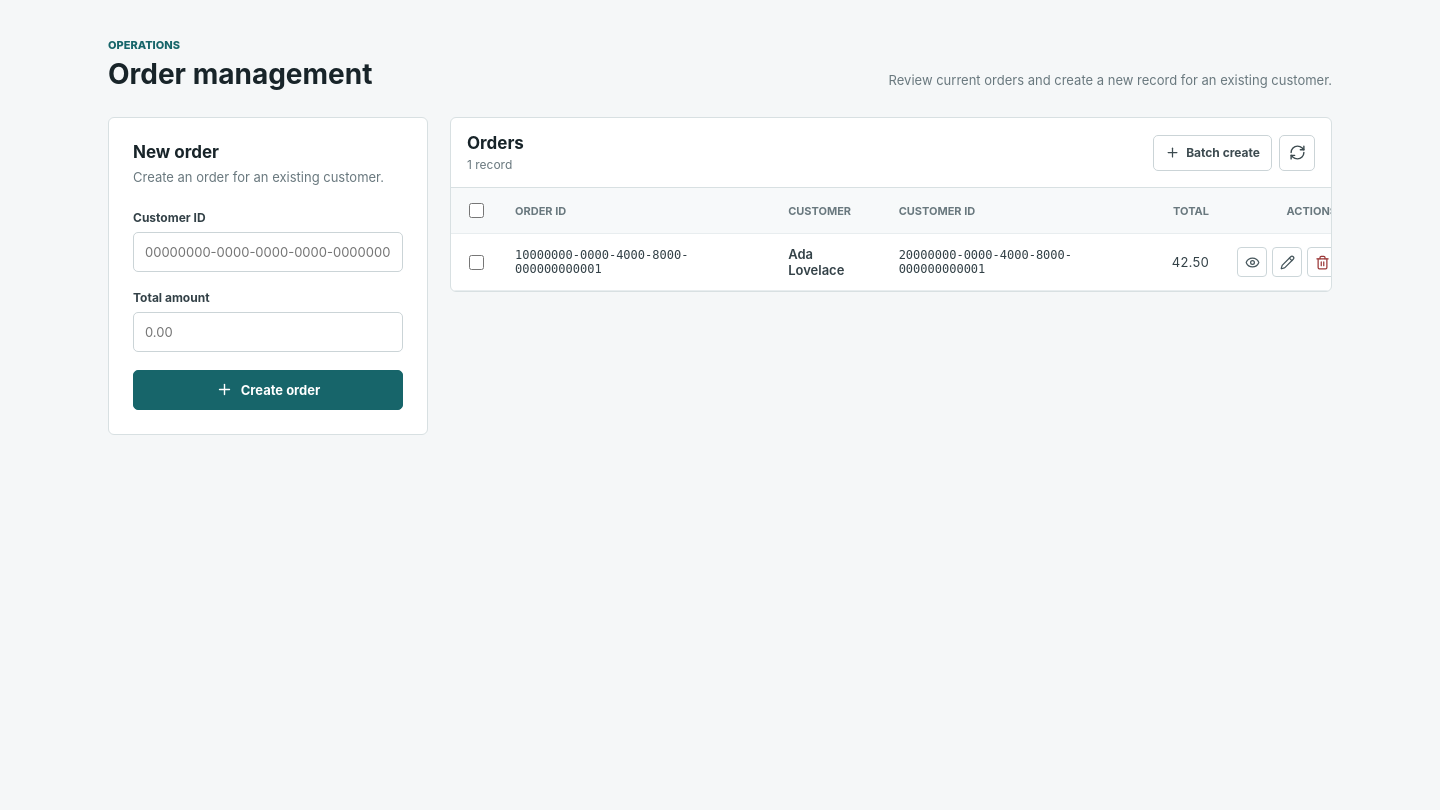
Test: orders page › creates and deletes orders in batches
Click the button "Batch create" at (1213, 152), box [1153, 134, 1272, 170]
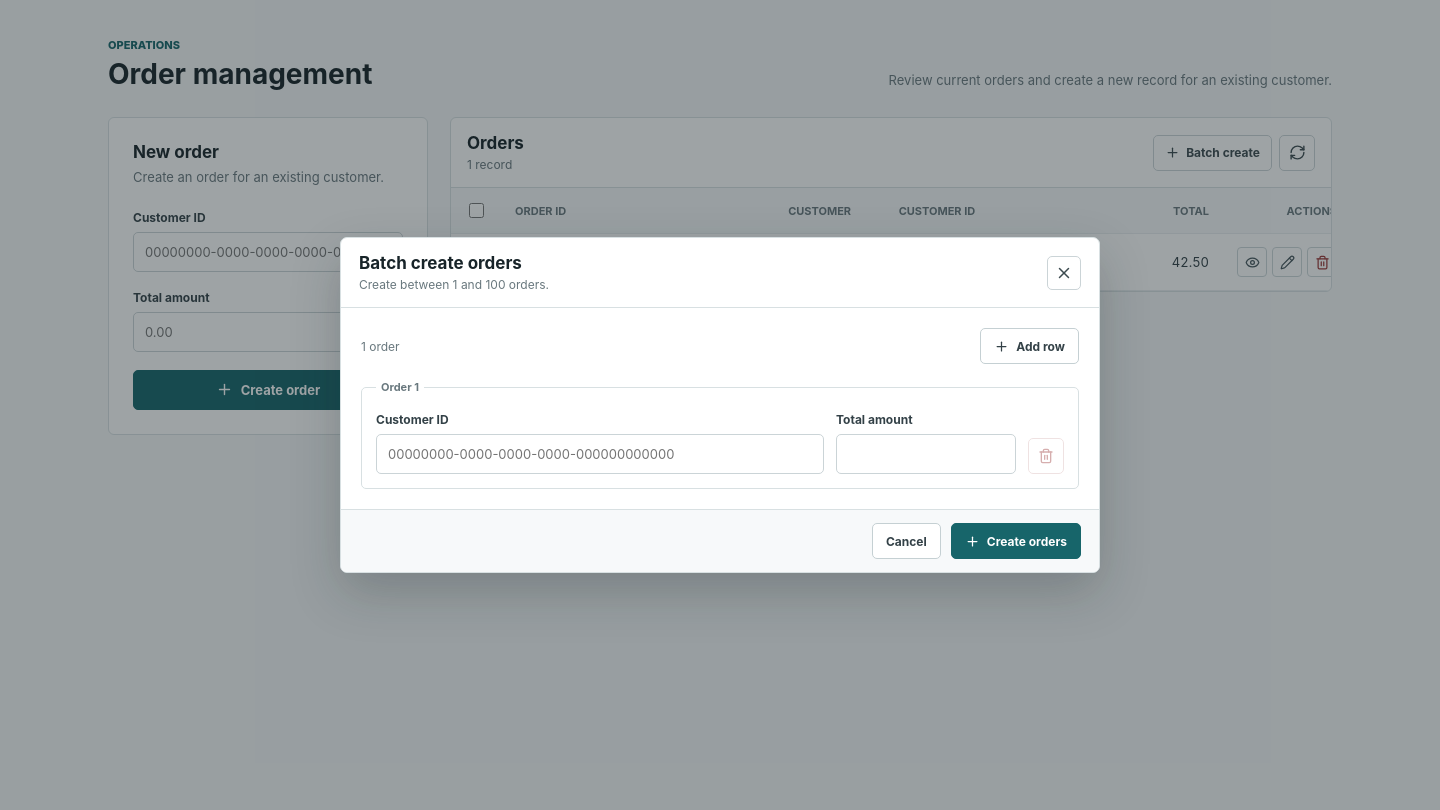
Type "20000000-0000-4000-8000-000000000001" into the field named "orders[0" at (600, 454), box [376, 434, 824, 474]
Type "75" into the number field named "orders[0" at (926, 454), box [836, 434, 1016, 474]
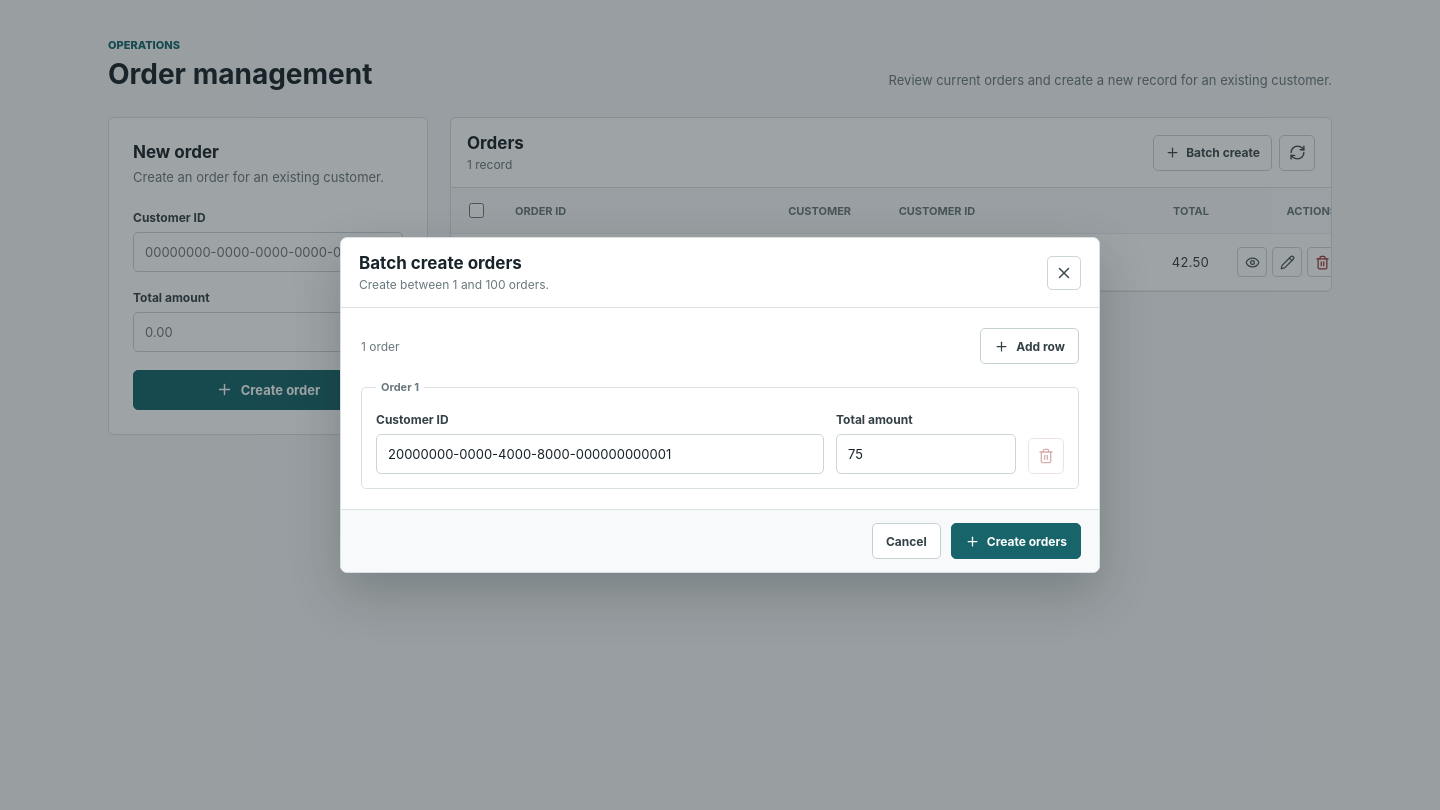
Submit the form with id "batch-create-form", box [361, 328, 1079, 489]
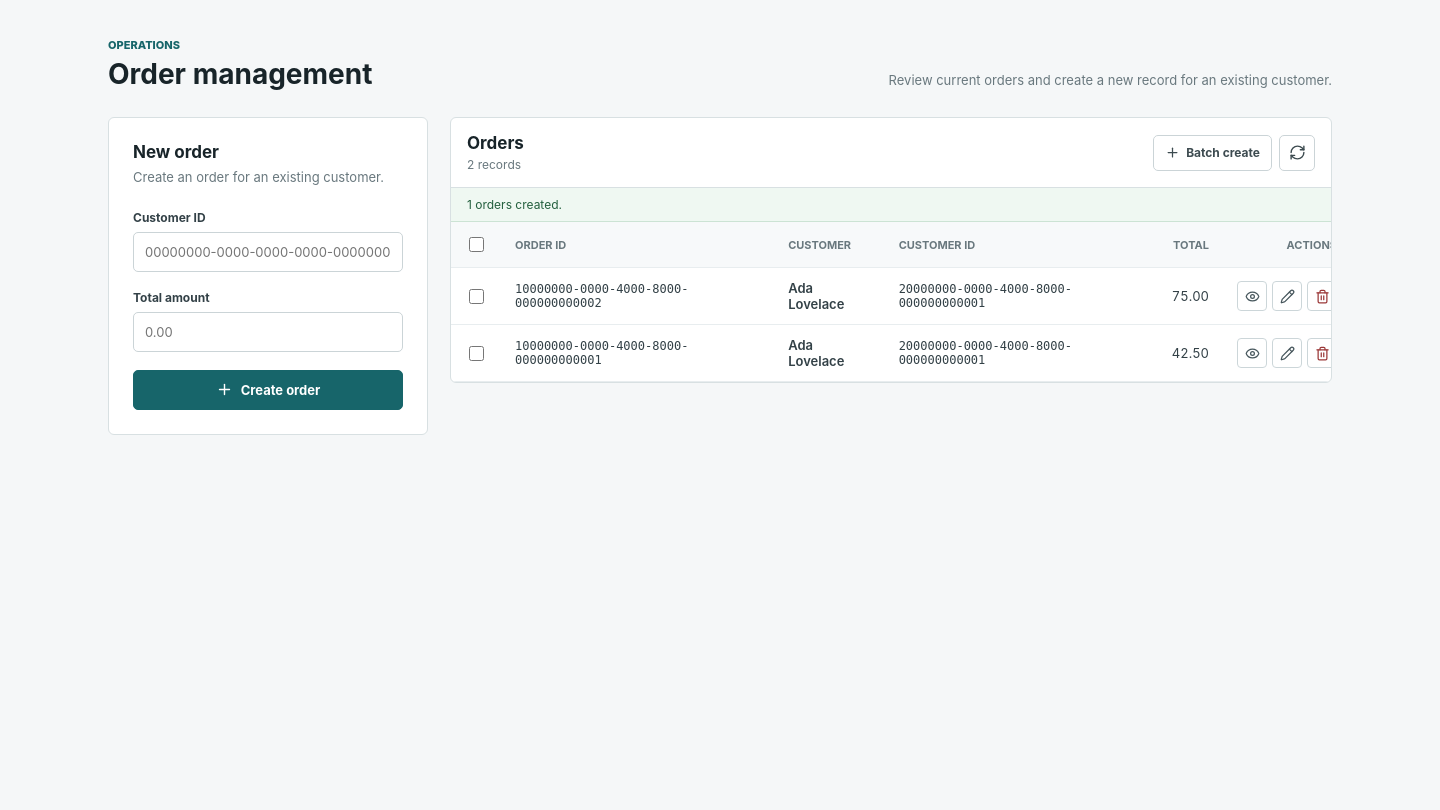
Click the checkbox named "Select order 10000000-0000-4000-8000-000000000002" at (476, 296), box [469, 288, 484, 304]
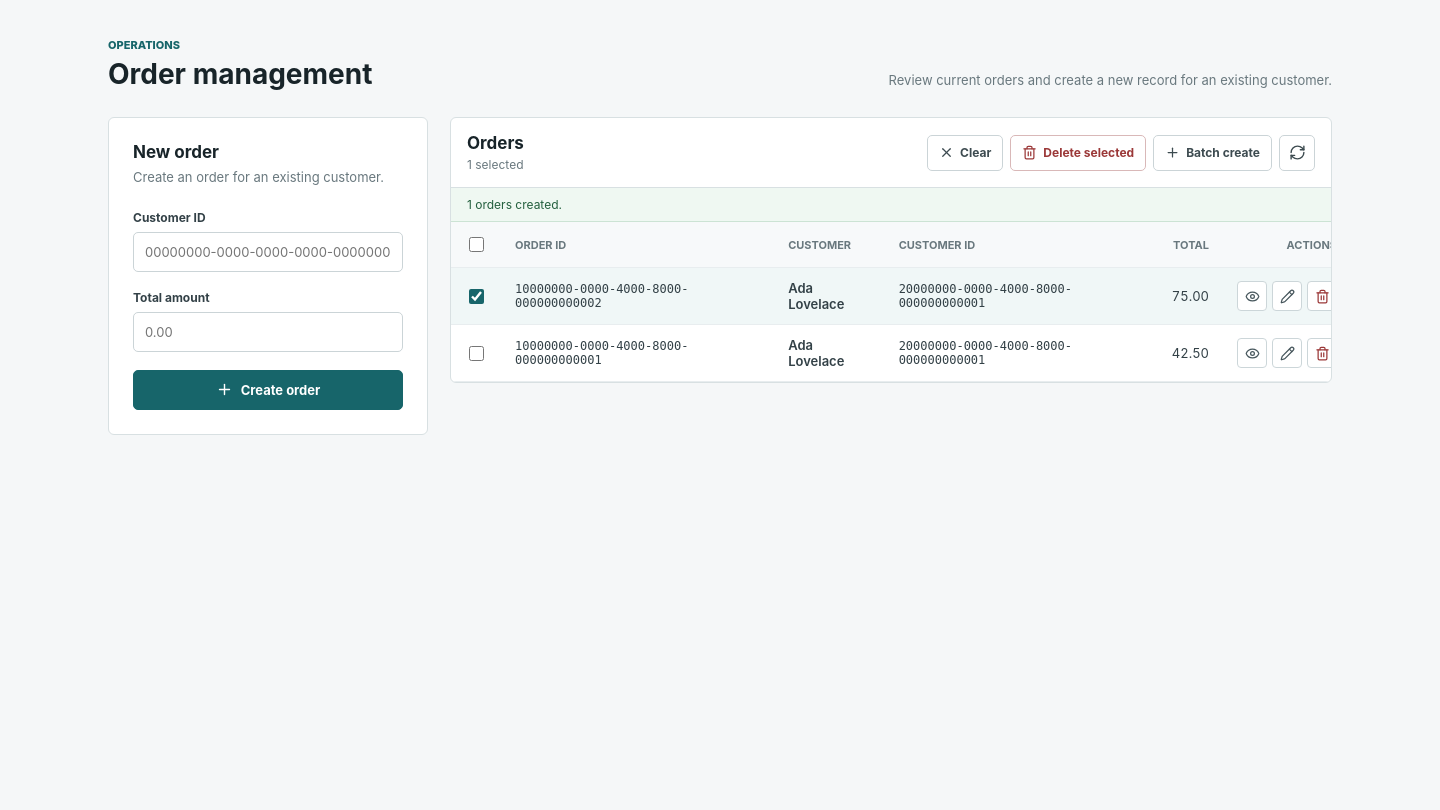
Click the button "Delete selected" at (1078, 152), box [1010, 134, 1146, 170]
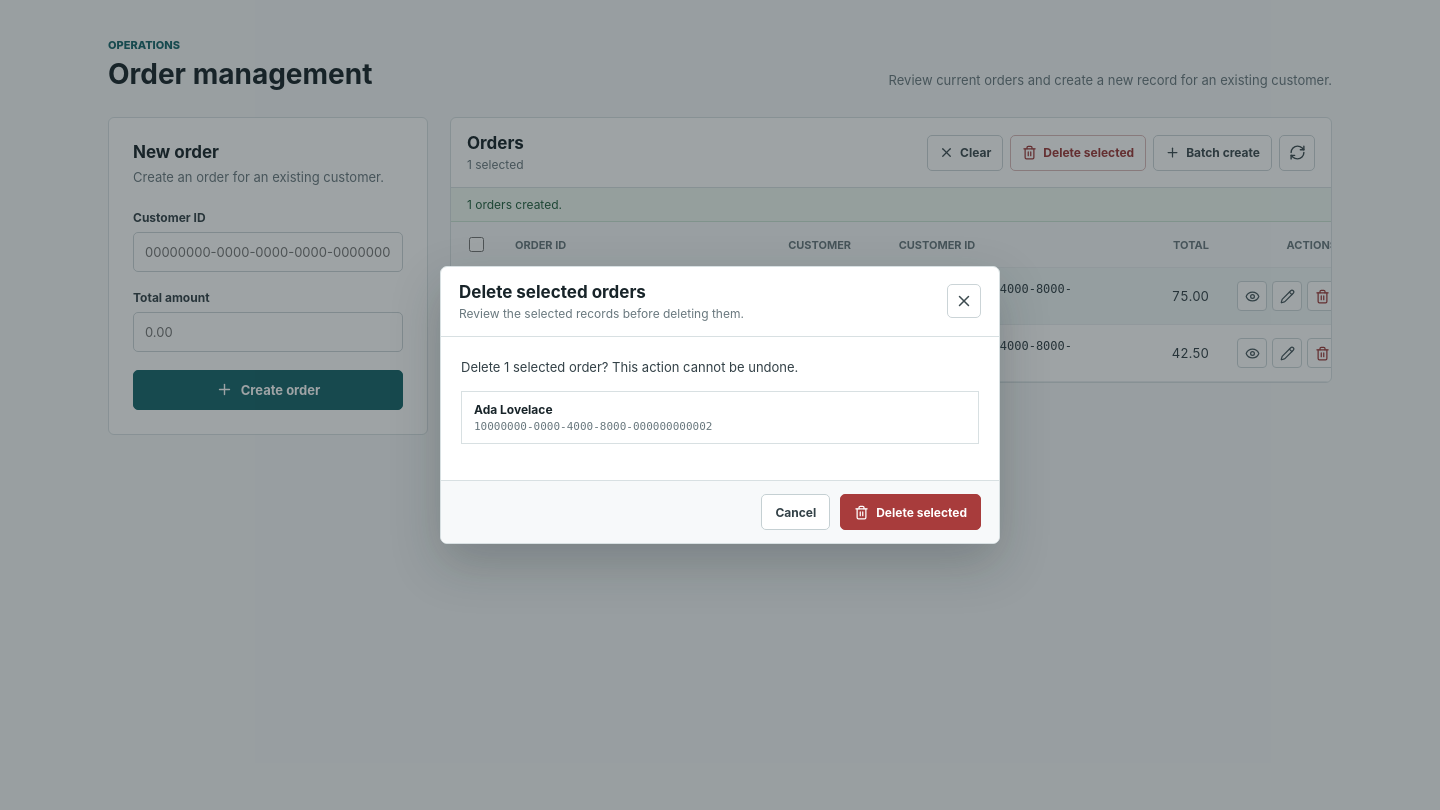
Click the button with class "button--danger" at (911, 512), box [840, 494, 981, 530]
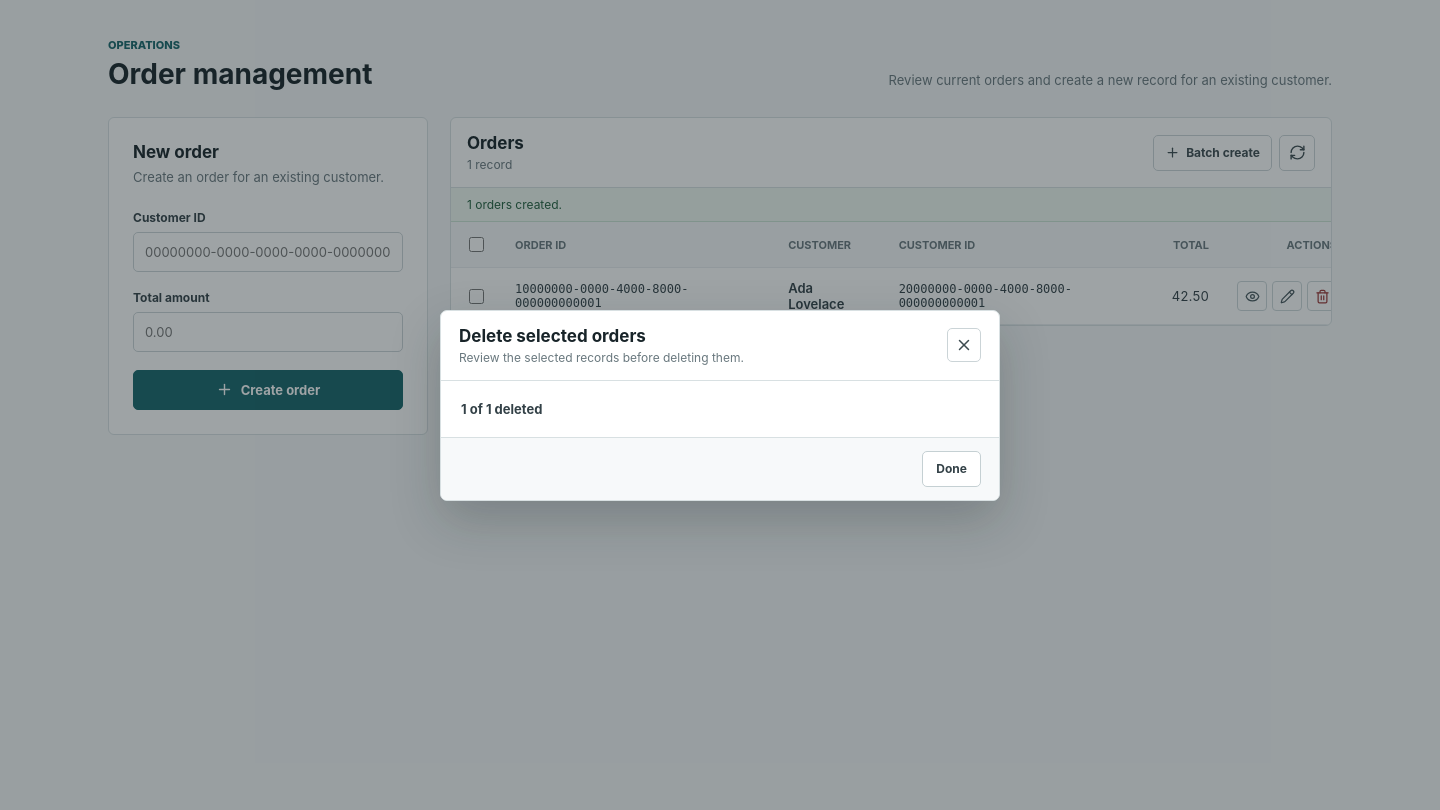
Expected: the text "1 of 1 deleted" is shown, [461, 400, 542, 416]
